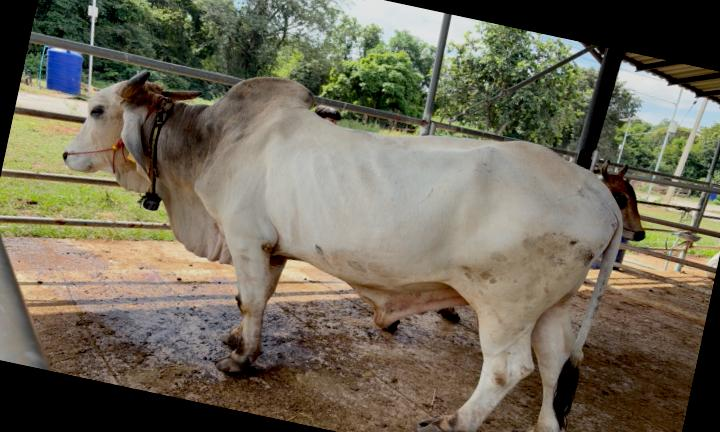Brahman: (64, 72, 624, 432)
